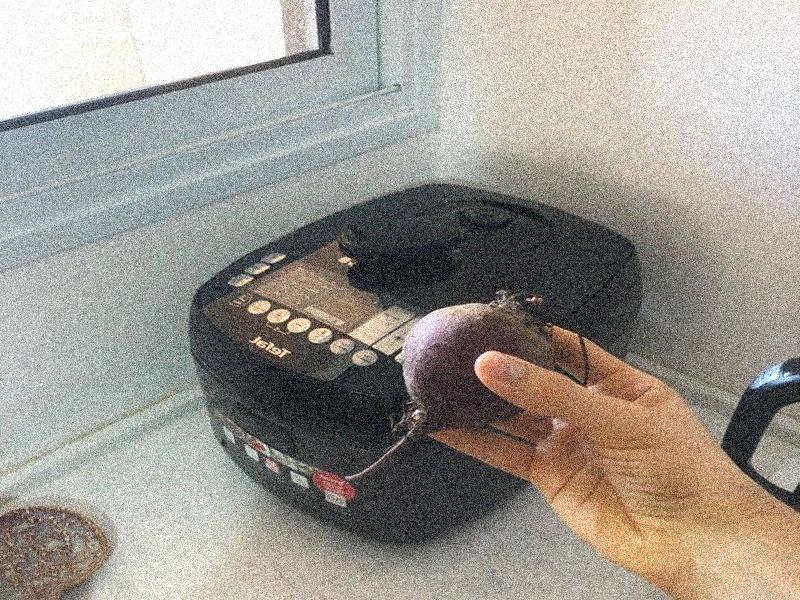Beet: (345, 290, 585, 483)
